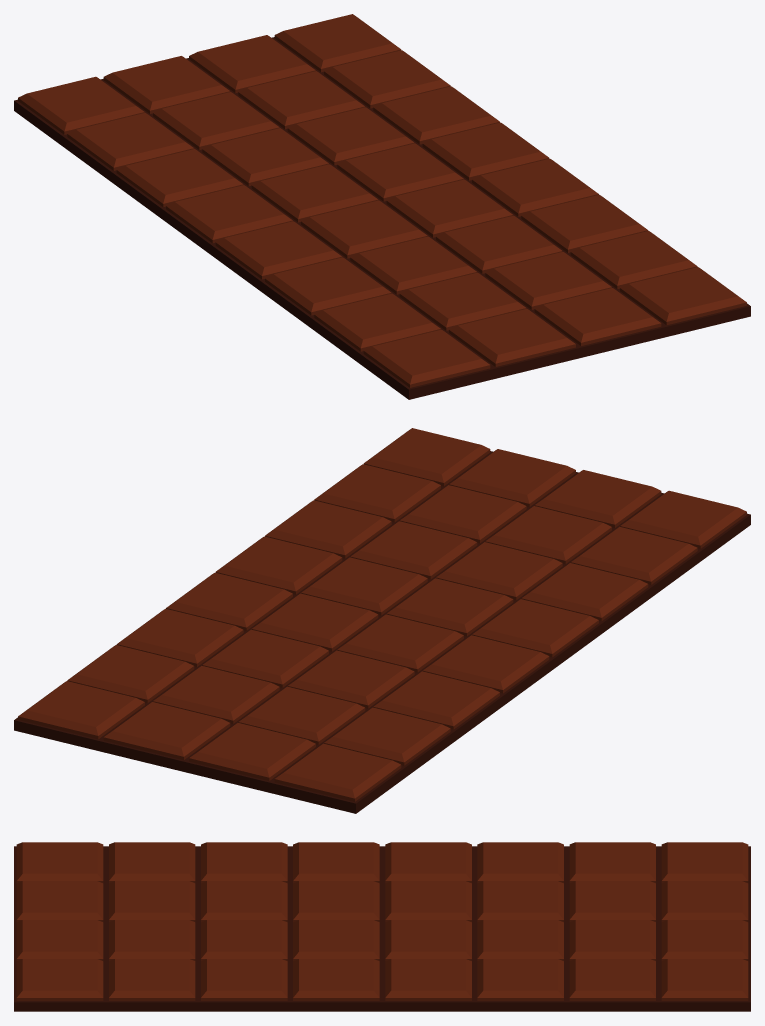
Rendered from barra_choco_2.obj.
The picture shows the model from 3 angles, top to bottom: view 1: azimuth 30°, elevation 25°; view 2: azimuth 150°, elevation 25°; view 3: azimuth 270°, elevation 25°; orthographic projection. The views are drawn at different scales.
Visible parts, largest first — view 1: Chocolate_Slab_Base, Chocolate_Segment_R8_C1, Chocolate_Segment_R8_C3, Chocolate_Segment_R8_C4, Chocolate_Segment_R8_C2, Chocolate_Segment_R1_C4, Chocolate_Segment_R2_C1, Chocolate_Segment_R3_C3, Chocolate_Segment_R5_C1, Chocolate_Segment_R2_C3, Chocolate_Segment_R3_C1, Chocolate_Segment_R4_C2 (+21 smaller); view 2: Chocolate_Slab_Base, Chocolate_Segment_R1_C1, Chocolate_Segment_R1_C3, Chocolate_Segment_R1_C4, Chocolate_Segment_R1_C2, Chocolate_Segment_R4_C1, Chocolate_Segment_R6_C3, Chocolate_Segment_R7_C1, Chocolate_Segment_R8_C4, Chocolate_Segment_R2_C1, Chocolate_Segment_R2_C2, Chocolate_Segment_R2_C3 (+21 smaller); view 3: Chocolate_Slab_Base, Chocolate_Segment_R1_C4, Chocolate_Segment_R8_C4, Chocolate_Segment_R4_C4, Chocolate_Segment_R5_C4, Chocolate_Segment_R2_C4, Chocolate_Segment_R3_C4, Chocolate_Segment_R6_C4, Chocolate_Segment_R7_C4, Chocolate_Segment_R1_C1, Chocolate_Segment_R8_C1, Chocolate_Segment_R1_C2 (+21 smaller).
Boxes of the visible parts, box(x1,y1,x2,y2) form: Chocolate_Slab_Base: box(14, 37, 750, 399); Chocolate_Segment_R8_C1: box(363, 329, 490, 387); Chocolate_Segment_R8_C3: box(534, 288, 661, 345); Chocolate_Segment_R8_C4: box(620, 267, 746, 325); Chocolate_Segment_R8_C2: box(449, 309, 575, 366); Chocolate_Segment_R1_C4: box(274, 14, 401, 72); Chocolate_Segment_R2_C1: box(67, 112, 194, 170); Chocolate_Segment_R3_C3: box(287, 107, 414, 165); Chocolate_Segment_R5_C1: box(215, 221, 342, 279); Chocolate_Segment_R2_C3: box(238, 71, 365, 129); Chocolate_Segment_R3_C1: box(116, 149, 243, 207); Chocolate_Segment_R4_C2: box(251, 164, 378, 222); Chocolate_Slab_Base: box(14, 451, 750, 813); Chocolate_Segment_R1_C1: box(274, 743, 401, 801); Chocolate_Segment_R1_C3: box(103, 702, 230, 759); Chocolate_Segment_R1_C4: box(18, 681, 144, 739); Chocolate_Segment_R1_C2: box(189, 723, 315, 780); Chocolate_Segment_R4_C1: box(422, 635, 549, 693); Chocolate_Segment_R6_C3: box(350, 521, 477, 579); Chocolate_Segment_R7_C1: box(570, 526, 697, 584); Chocolate_Segment_R8_C4: box(363, 428, 490, 486); Chocolate_Segment_R2_C1: box(324, 707, 450, 765); Chocolate_Segment_R2_C2: box(238, 686, 365, 744); Chocolate_Segment_R2_C3: box(153, 666, 279, 723); Chocolate_Slab_Base: box(14, 846, 750, 1011); Chocolate_Segment_R1_C4: box(661, 959, 748, 1000); Chocolate_Segment_R8_C4: box(16, 959, 103, 1000); Chocolate_Segment_R4_C4: box(385, 959, 471, 1000); Chocolate_Segment_R5_C4: box(293, 959, 379, 1000); Chocolate_Segment_R2_C4: box(569, 959, 655, 1000); Chocolate_Segment_R3_C4: box(477, 959, 563, 1000); Chocolate_Segment_R6_C4: box(201, 959, 287, 1000); Chocolate_Segment_R7_C4: box(109, 959, 195, 1000); Chocolate_Segment_R1_C1: box(661, 842, 748, 882); Chocolate_Segment_R8_C1: box(16, 842, 103, 882); Chocolate_Segment_R1_C2: box(661, 881, 748, 921).
Size of the model in its own units: 8 by 0.42 by 16.
